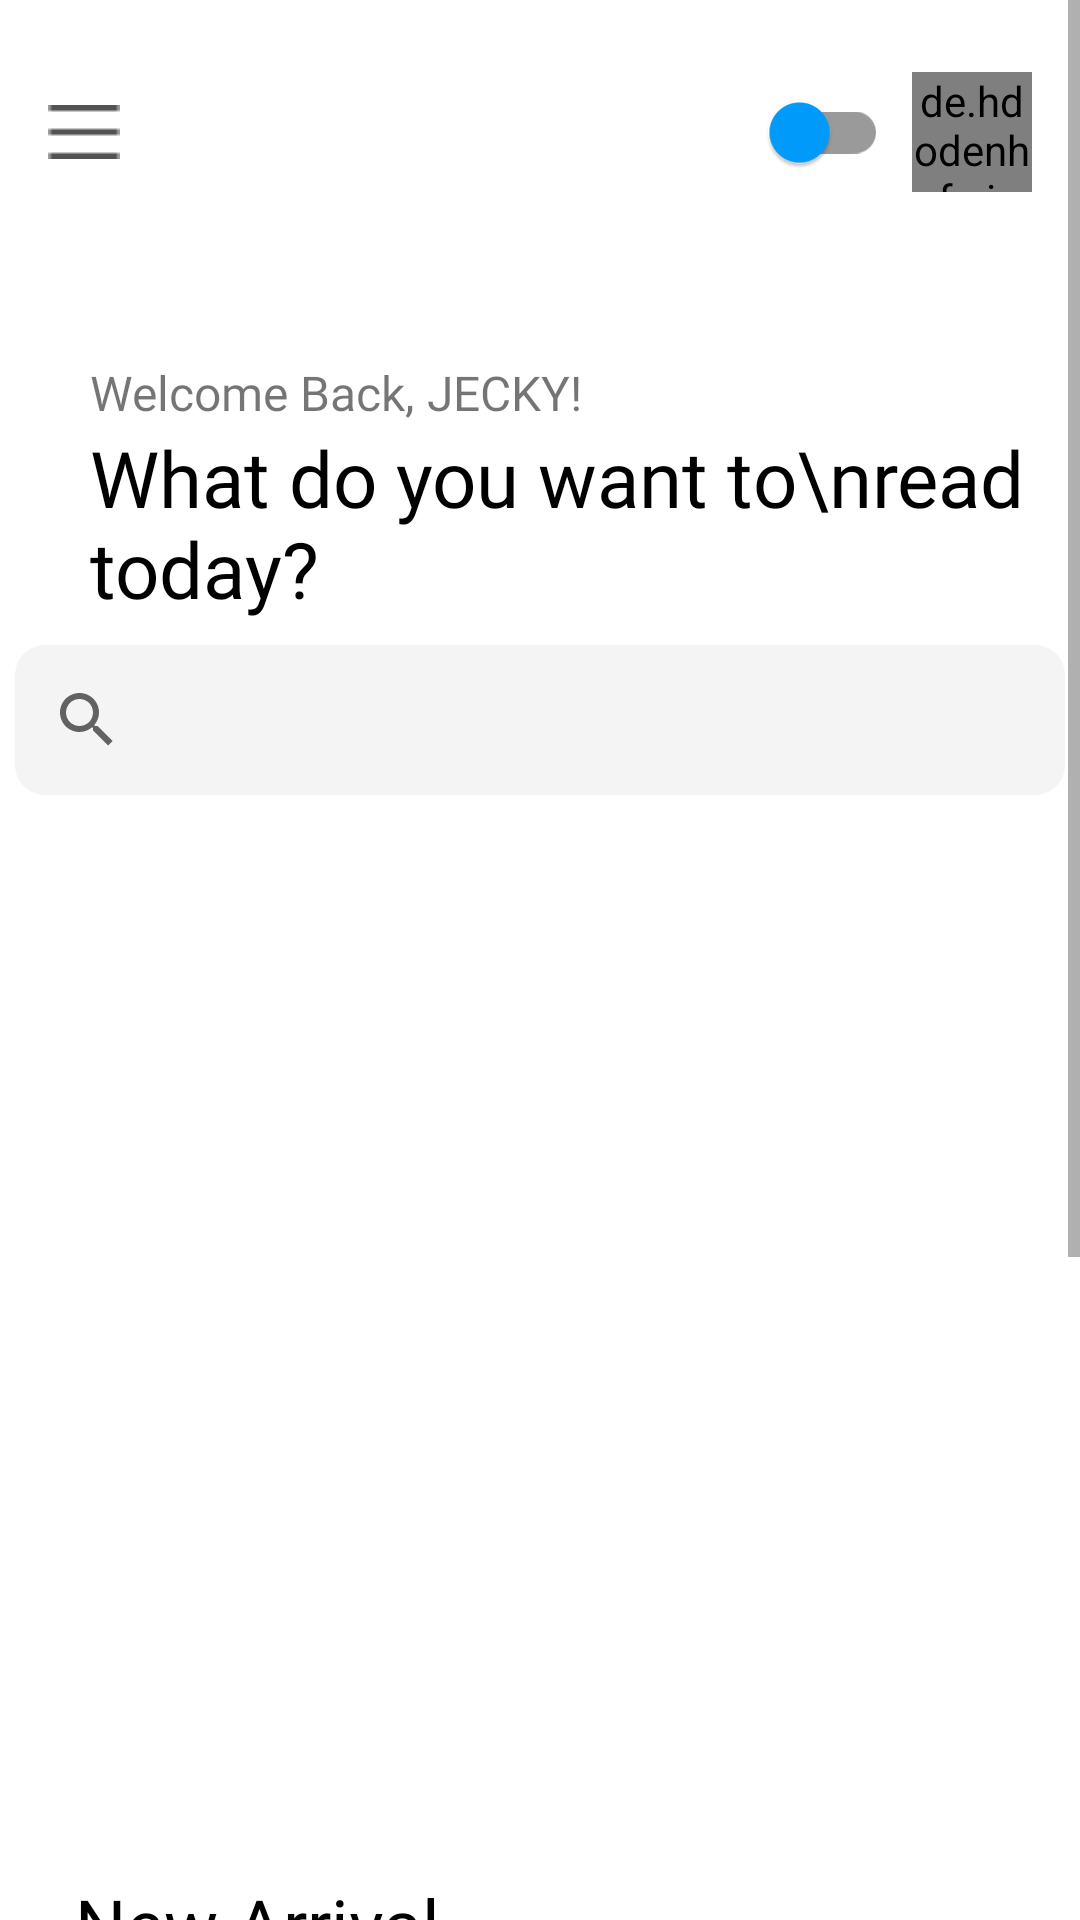

Icons on this 1080px×1920px Android screen, each with its box as bbox(x1, y1, x2, y2):
menu: bbox(48, 105, 120, 159)
